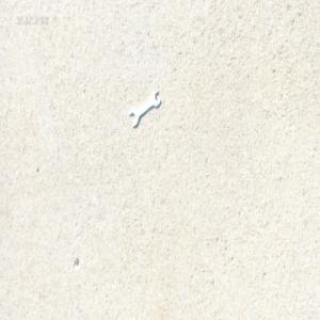Wrenchtrack_idkeyframe: (128, 88, 161, 126)
